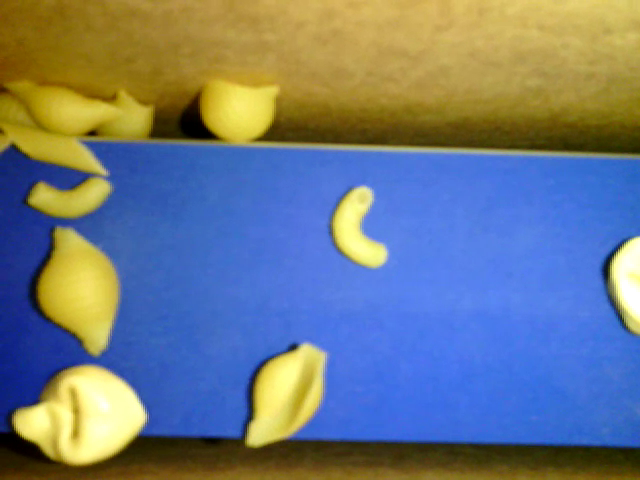elbow: (329, 183, 390, 270), (25, 172, 114, 219)
penne: (1, 125, 110, 179)
shell: (33, 222, 122, 353), (241, 342, 326, 448), (3, 76, 126, 134), (202, 85, 284, 145), (96, 91, 157, 138), (1, 90, 47, 134)
tortellini: (10, 362, 149, 467), (605, 234, 639, 334)
